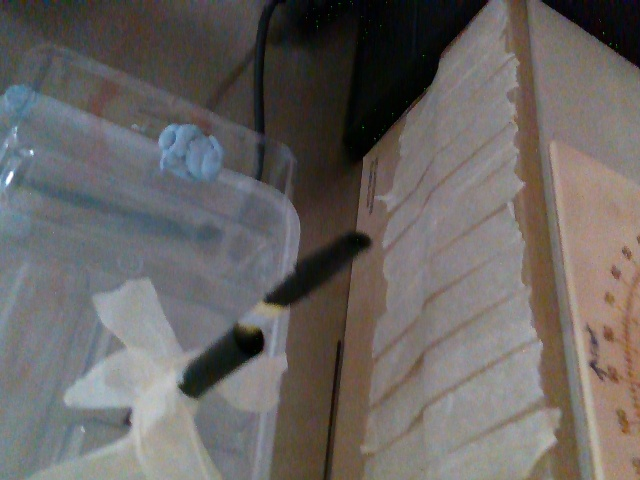test_strip: (236, 228, 370, 334)
